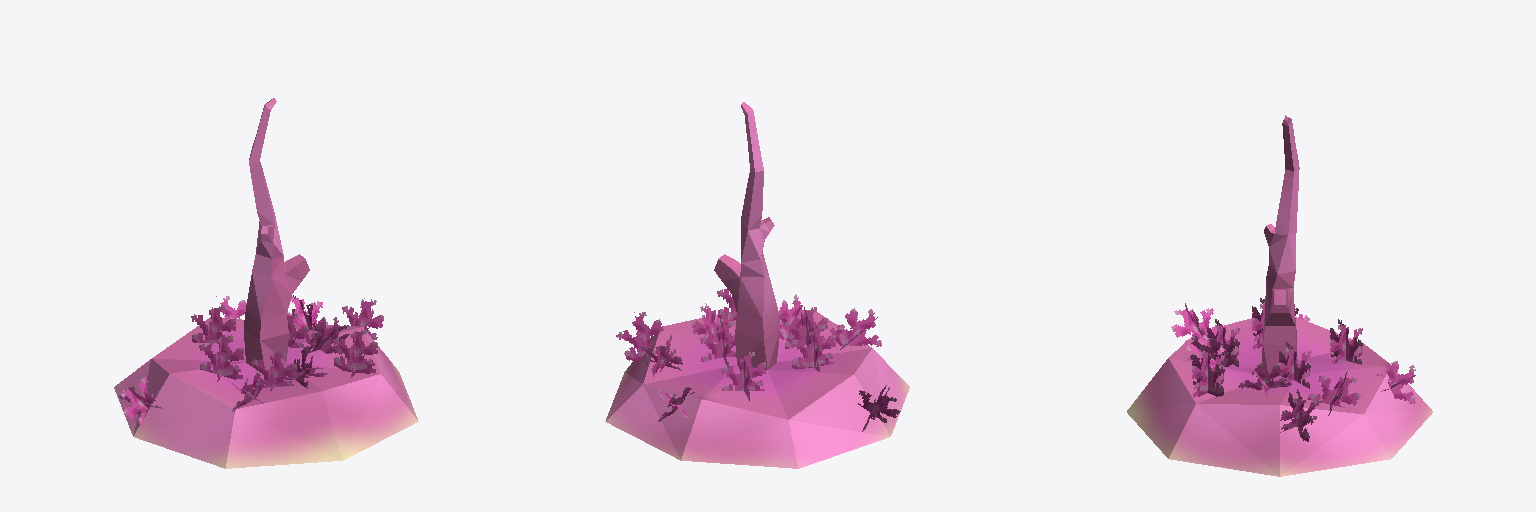
The picture shows the model from 3 angles: view 1: azimuth 30°, elevation 25°; view 2: azimuth 150°, elevation 25°; view 3: azimuth 270°, elevation 25°; orthographic projection.
Parts seen in each view (by area): view 1: 立方体, 平面.005, 平面.004, 平面.002, 平面.003, 平面.011, 平面.007, 平面.006, 平面.012; view 2: 立方体, 平面.004, 平面.009, 平面.002, 平面.006, 平面.001, 平面.007, 平面.003, 平面.011, 平面.012, 平面.010; view 3: 立方体, 平面.005, 平面.002, 平面.012, 平面.006, 平面.009, 平面.001, 平面.008, 平面.011, 平面.010, 平面.003.
Part boxes in pixels (left/top/right/bottom): 立方体: left=114, top=98, right=418, bottom=468; 平面.005: left=333, top=329, right=377, bottom=377; 平面.004: left=199, top=335, right=243, bottom=381; 平面.002: left=191, top=306, right=235, bottom=347; 平面.003: left=251, top=351, right=296, bottom=391; 平面.011: left=301, top=317, right=349, bottom=354; 平面.007: left=119, top=377, right=161, bottom=424; 平面.006: left=342, top=298, right=383, bottom=339; 平面.012: left=287, top=295, right=327, bottom=331; 立方体: left=605, top=102, right=909, bottom=468; 平面.004: left=790, top=322, right=835, bottom=371; 平面.009: left=829, top=308, right=881, bottom=349; 平面.002: left=721, top=348, right=765, bottom=400; 平面.006: left=616, top=312, right=663, bottom=360; 平面.001: left=700, top=318, right=736, bottom=367; 平面.007: left=858, top=385, right=900, bottom=431; 平面.003: left=783, top=307, right=827, bottom=348; 平面.011: left=692, top=303, right=734, bottom=348; 平面.012: left=640, top=335, right=682, bottom=376; 平面.010: left=779, top=294, right=813, bottom=341; 立方体: left=1127, top=115, right=1432, bottom=476; 平面.005: left=1192, top=346, right=1224, bottom=397; 平面.002: left=1330, top=319, right=1362, bottom=364; 平面.012: left=1307, top=371, right=1360, bottom=415; 平面.006: left=1280, top=389, right=1320, bottom=441; 平面.009: left=1171, top=303, right=1217, bottom=343; 平面.001: left=1278, top=342, right=1310, bottom=388; 平面.008: left=1376, top=361, right=1415, bottom=403; 平面.011: left=1238, top=358, right=1291, bottom=396; 平面.010: left=1187, top=334, right=1236, bottom=367; 平面.003: left=1207, top=319, right=1239, bottom=366.
Size of the model in its own units: 2.59 by 2.61 by 2.41.
2 materials, 2 textured.